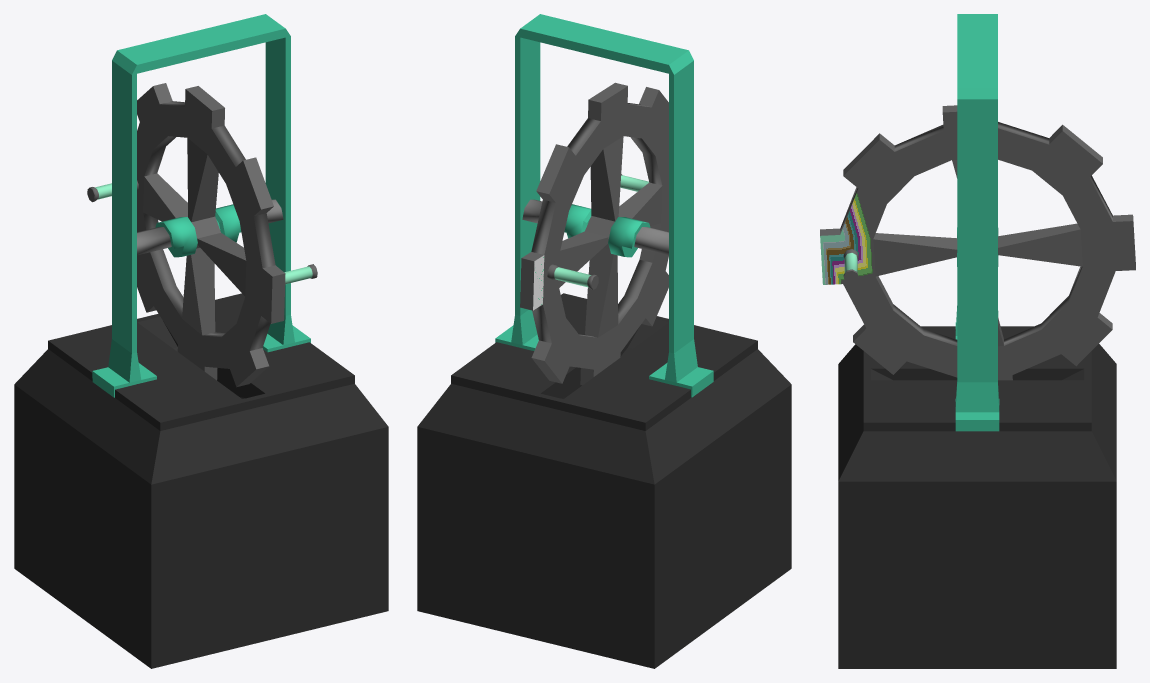
Rendered from TrapWheel.fbx.
3 views of the same model, side by side, from view 1: azimuth 30°, elevation 25°; view 2: azimuth 150°, elevation 25°; view 3: azimuth 270°, elevation 25° (orthographic).
Parts seen in each view (by area): view 1: WheelAltar.001, wheel.001, wheelstand.001; view 2: WheelAltar.001, wheel.001, wheelstand.001; view 3: WheelAltar.001, wheel.001, wheelstand.001.
Part boxes in pixels (x1=…): WheelAltar.001: x1=14, y1=293, x2=388, y2=668; wheel.001: x1=87, y1=83, x2=317, y2=387; wheelstand.001: x1=92, y1=14, x2=310, y2=397; WheelAltar.001: x1=417, y1=293, x2=791, y2=668; wheel.001: x1=520, y1=82, x2=668, y2=385; wheelstand.001: x1=495, y1=14, x2=713, y2=397; WheelAltar.001: x1=838, y1=326, x2=1116, y2=668; wheel.001: x1=820, y1=105, x2=1135, y2=380; wheelstand.001: x1=955, y1=14, x2=999, y2=431.
Bounding box in the file's own units: 2 × 2.27 × 4.43.
